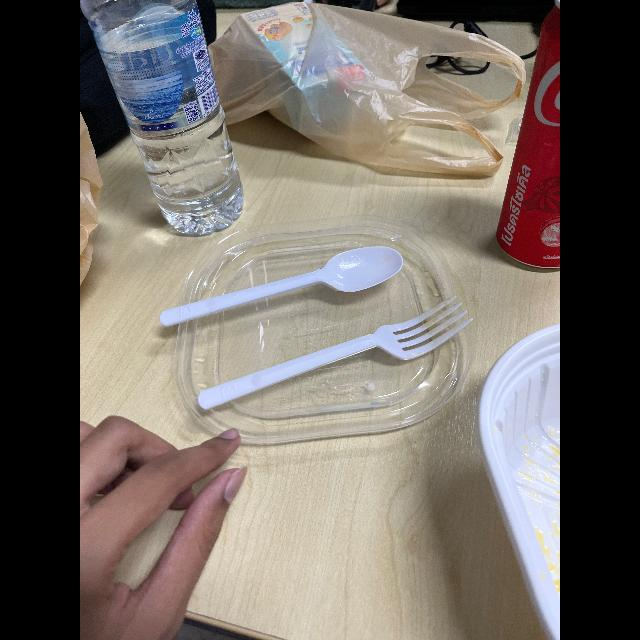plastic_cultery: (200, 291, 480, 417), (154, 224, 412, 350)
